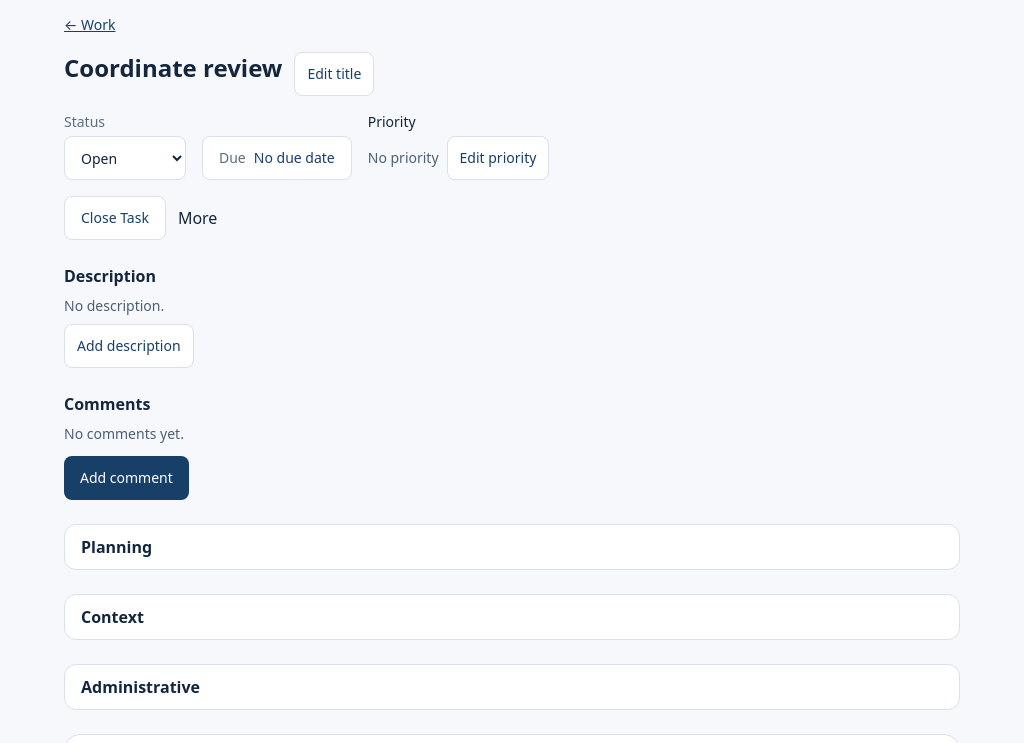
Test: TaskDetailView authoritative draft / conflict › preserves the draft on 409 identically while diagnostics are off
Click the button with test id "task-edit-title" at coordinates (334, 74), box [294,52,374,96]
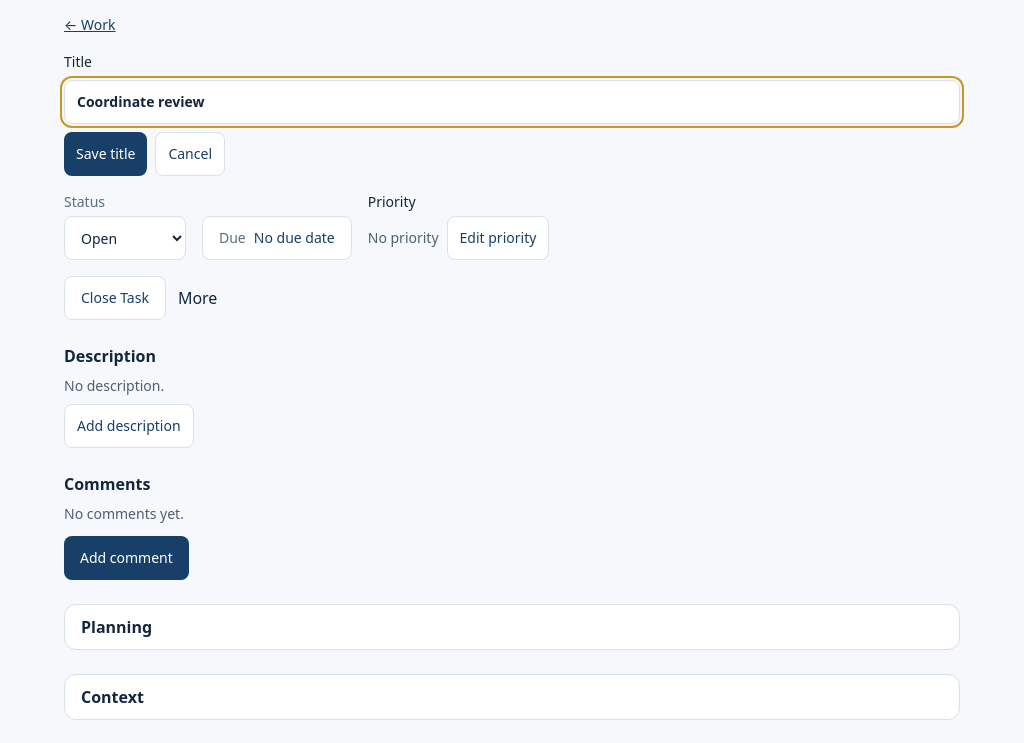
Replace the text in the field labelled "Title" with "My dirty title" at coordinates (512, 102), box [64,80,960,124]
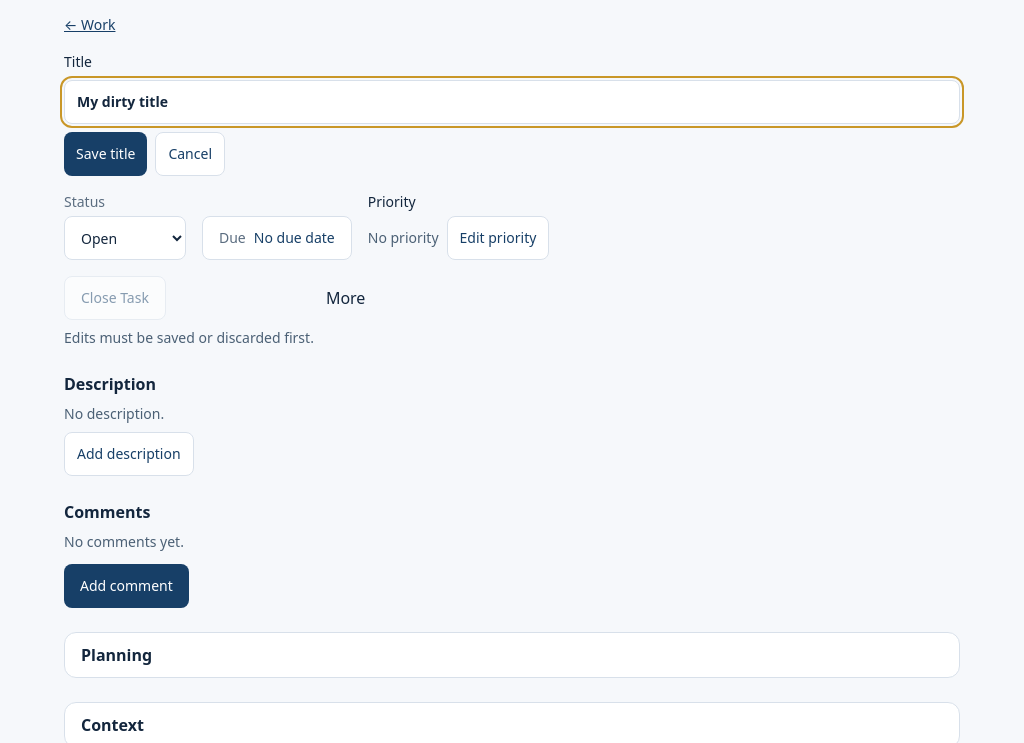
Click the button "Save title" at coordinates (106, 154), box [64,132,147,176]
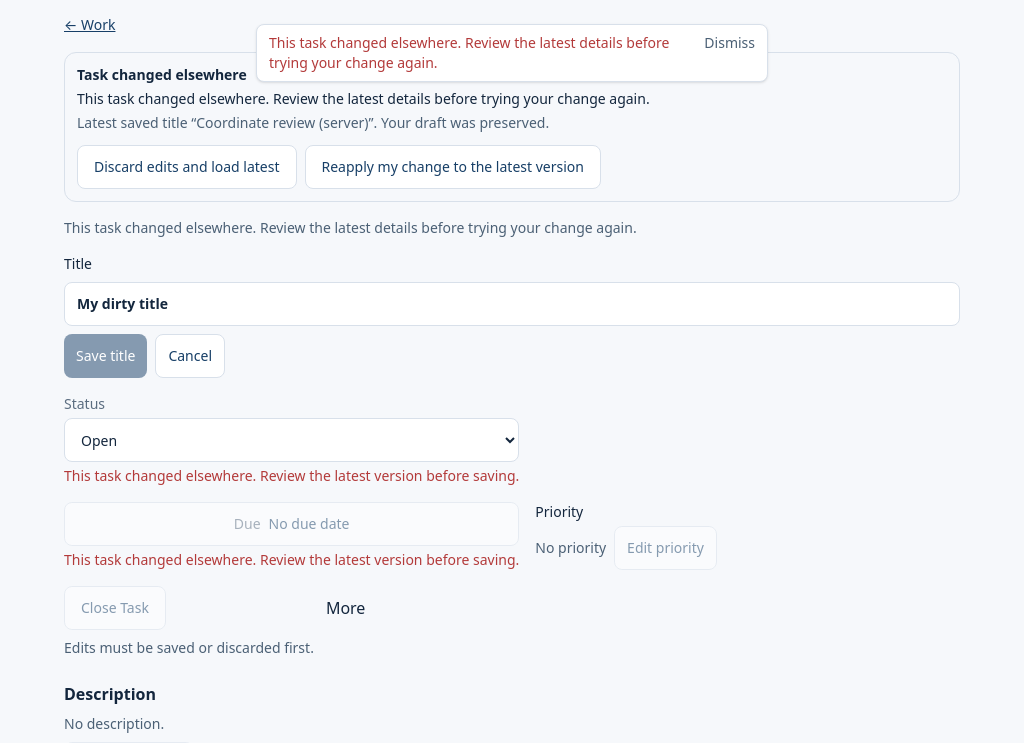
Expected: the message with test id "task-changed-elsewhere" is shown, [64,52,960,202]
Expected: the text "title “Coordinate review (server)”" is shown, [77,113,549,132]
Expected: the button "Save title" is disabled, [64,334,147,378]
